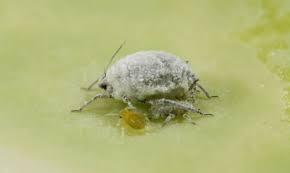insect: (69, 36, 224, 137)
